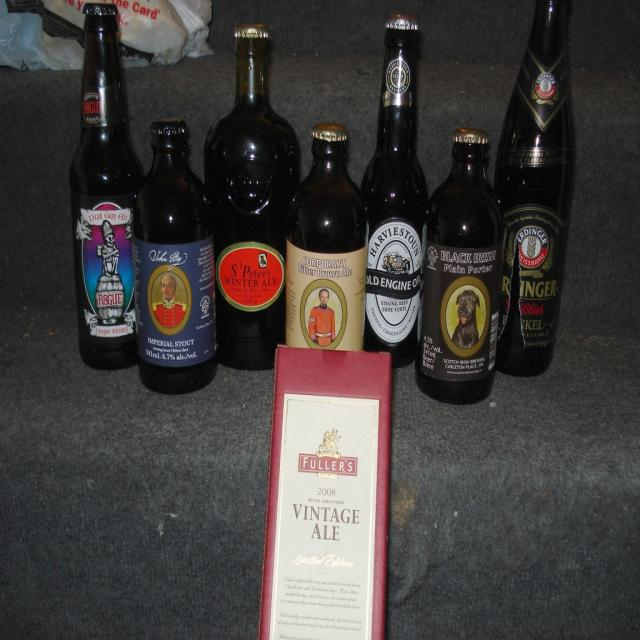erdinger: (500, 213, 564, 301)
